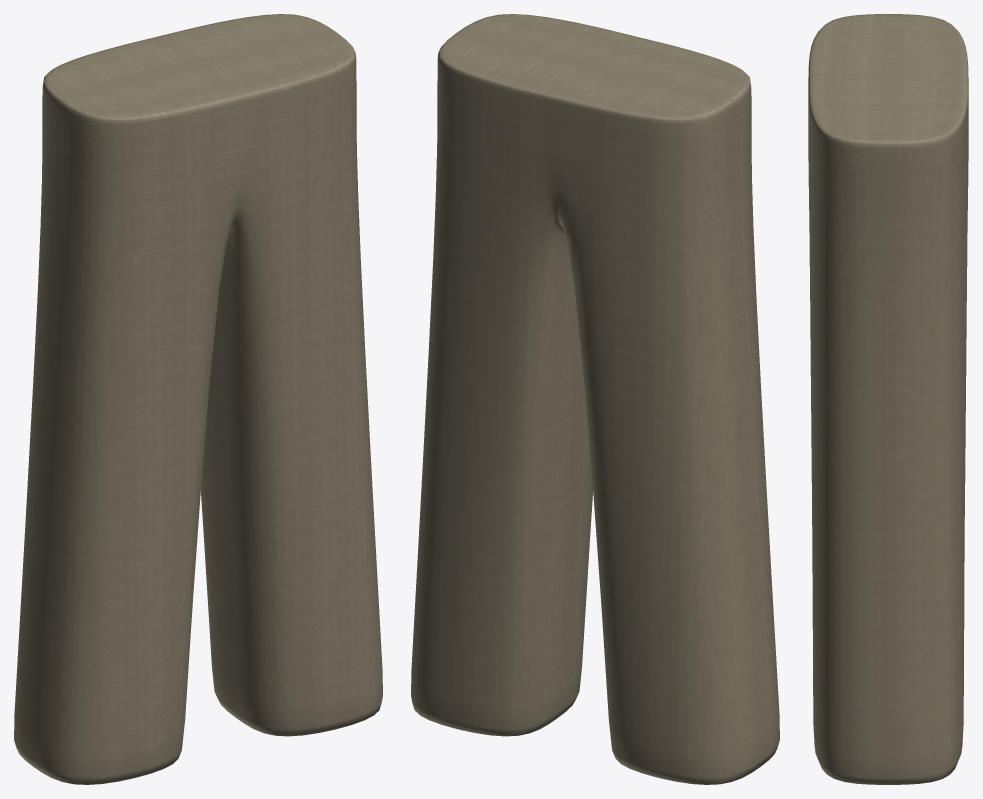
Rendered from Pants.glb.
3 renders of one model, left to right at view 1: azimuth 30°, elevation 25°; view 2: azimuth 150°, elevation 25°; view 3: azimuth 270°, elevation 25°, orthographic. The views are drawn at different scales.
Parts seen in each view (by area): view 1: Pants_geo; view 2: Pants_geo; view 3: Pants_geo.
Part boxes in pixels (left/top/right/bottom): Pants_geo: left=14, top=14, right=382, bottom=784; Pants_geo: left=411, top=14, right=779, bottom=784; Pants_geo: left=808, top=14, right=968, bottom=784.
Bounding box in the file's own units: 2.02 × 3.82 × 0.8761.
1 material, 1 textured.
